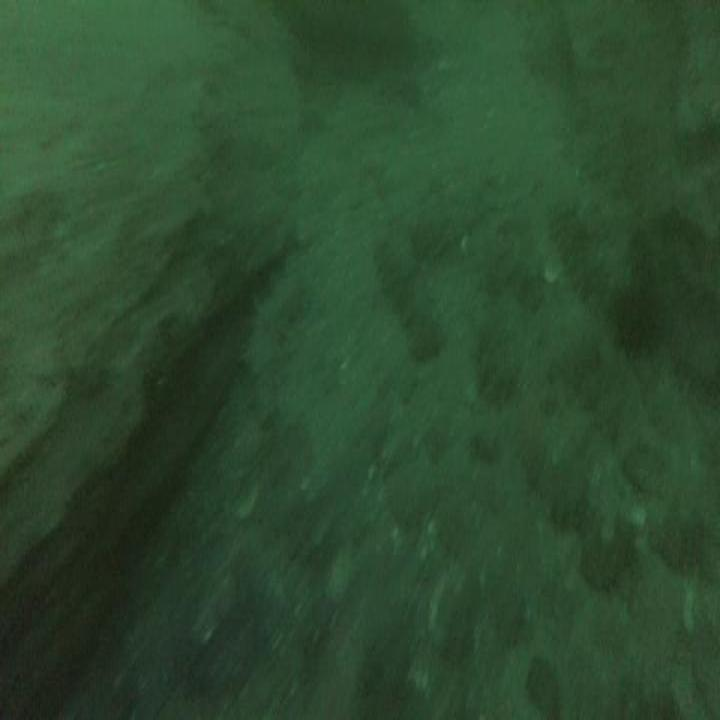echinus: (618, 270, 663, 366)
holothurian: (374, 229, 435, 370), (548, 186, 608, 314), (472, 311, 513, 405), (267, 266, 312, 346), (542, 469, 594, 528)
